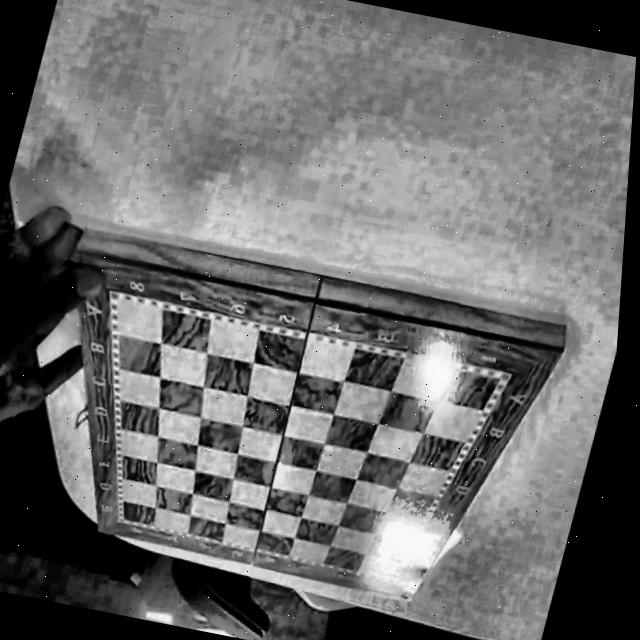chessboard: (109, 289, 506, 584)
p1: (497, 366, 514, 383)
p2: (98, 282, 122, 302)
p3: (111, 511, 130, 528)
p4: (381, 572, 401, 594)
